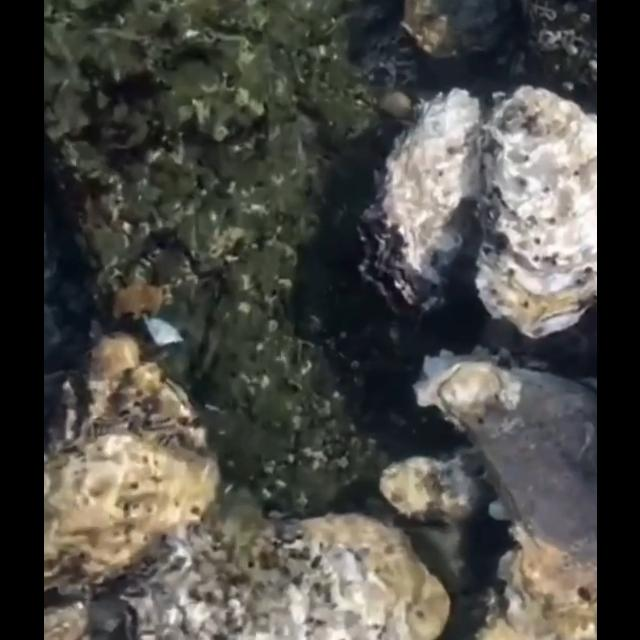Oyster-Closed: (43, 334, 227, 640), (413, 350, 597, 640), (117, 515, 450, 640), (474, 88, 596, 346), (379, 458, 485, 530), (402, 0, 514, 68)
Oyster-Open: (354, 92, 484, 326)
